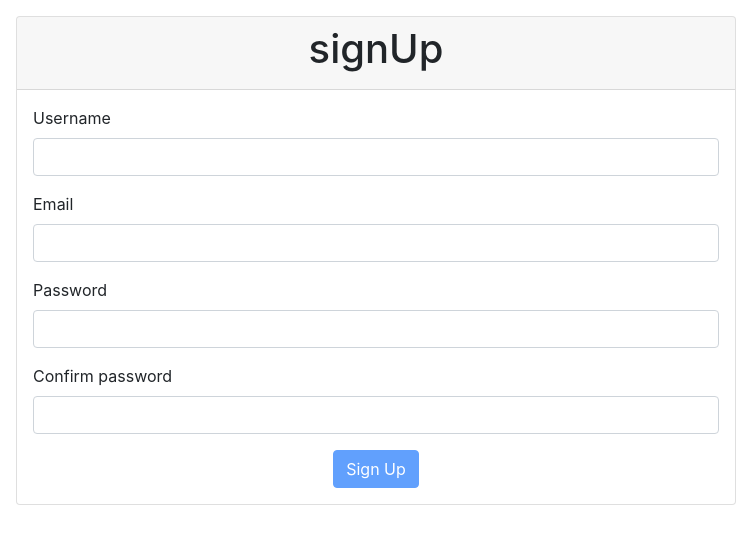
Test case: SignUpPageWithTranslation › Interaction › displays Password cannot be null for field
This screenshot has width=753, height=547.
Type "clemgbld" into the field labelled "Username" at [376, 157], box [33,138,719,176]
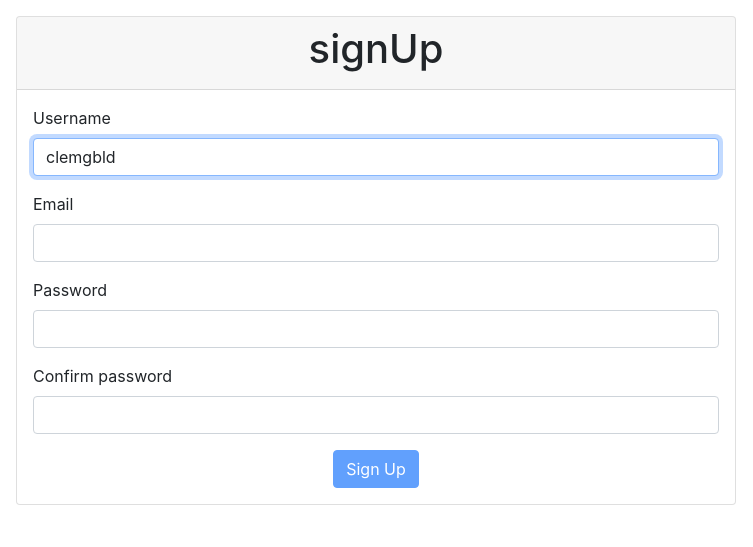
Type "exemple@hotmail.fr" into the field labelled "Email" at [376, 243], box [33,224,719,262]
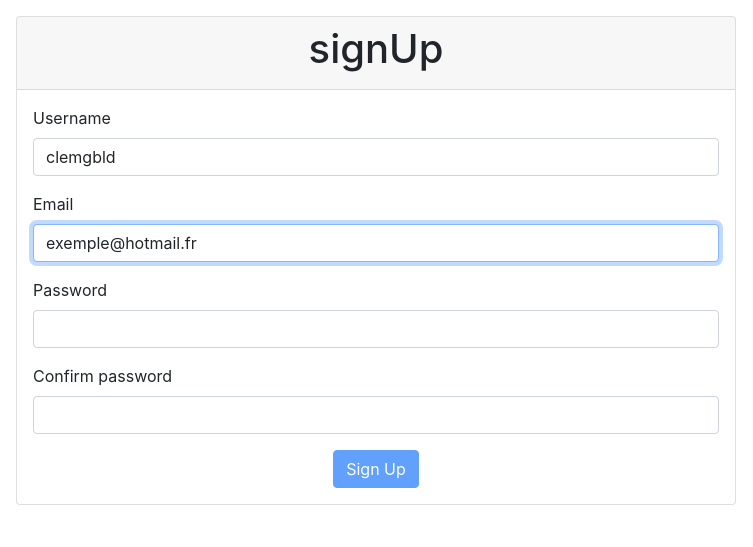
Type "azerty" into the password field labelled "Password" at [376, 329], box [33,310,719,348]
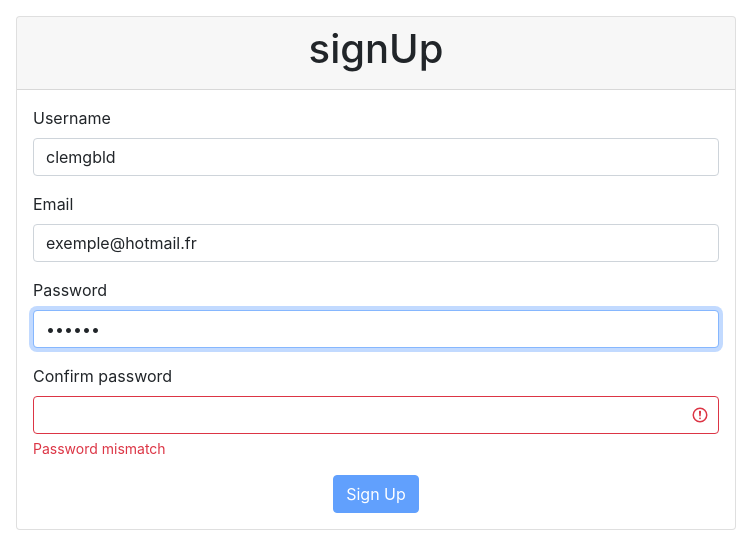
Type "azerty" into the password field labelled "Confirm password" at [376, 415], box [33,396,719,434]
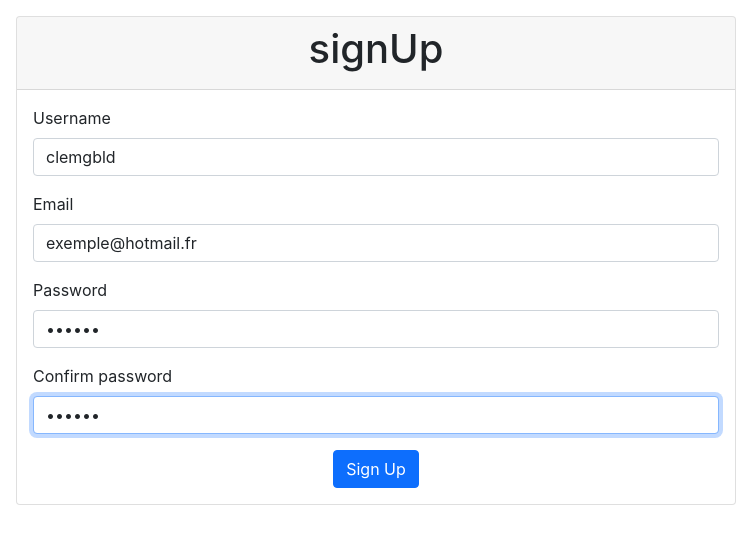
Click the button at [376, 469], box [333,450,419,488]
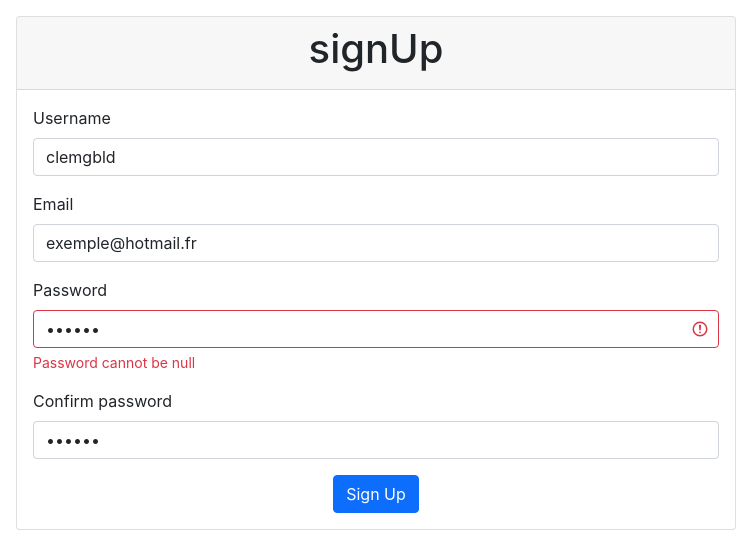
Expected: the text "Password cannot be null" is shown, [33,354,195,371]
